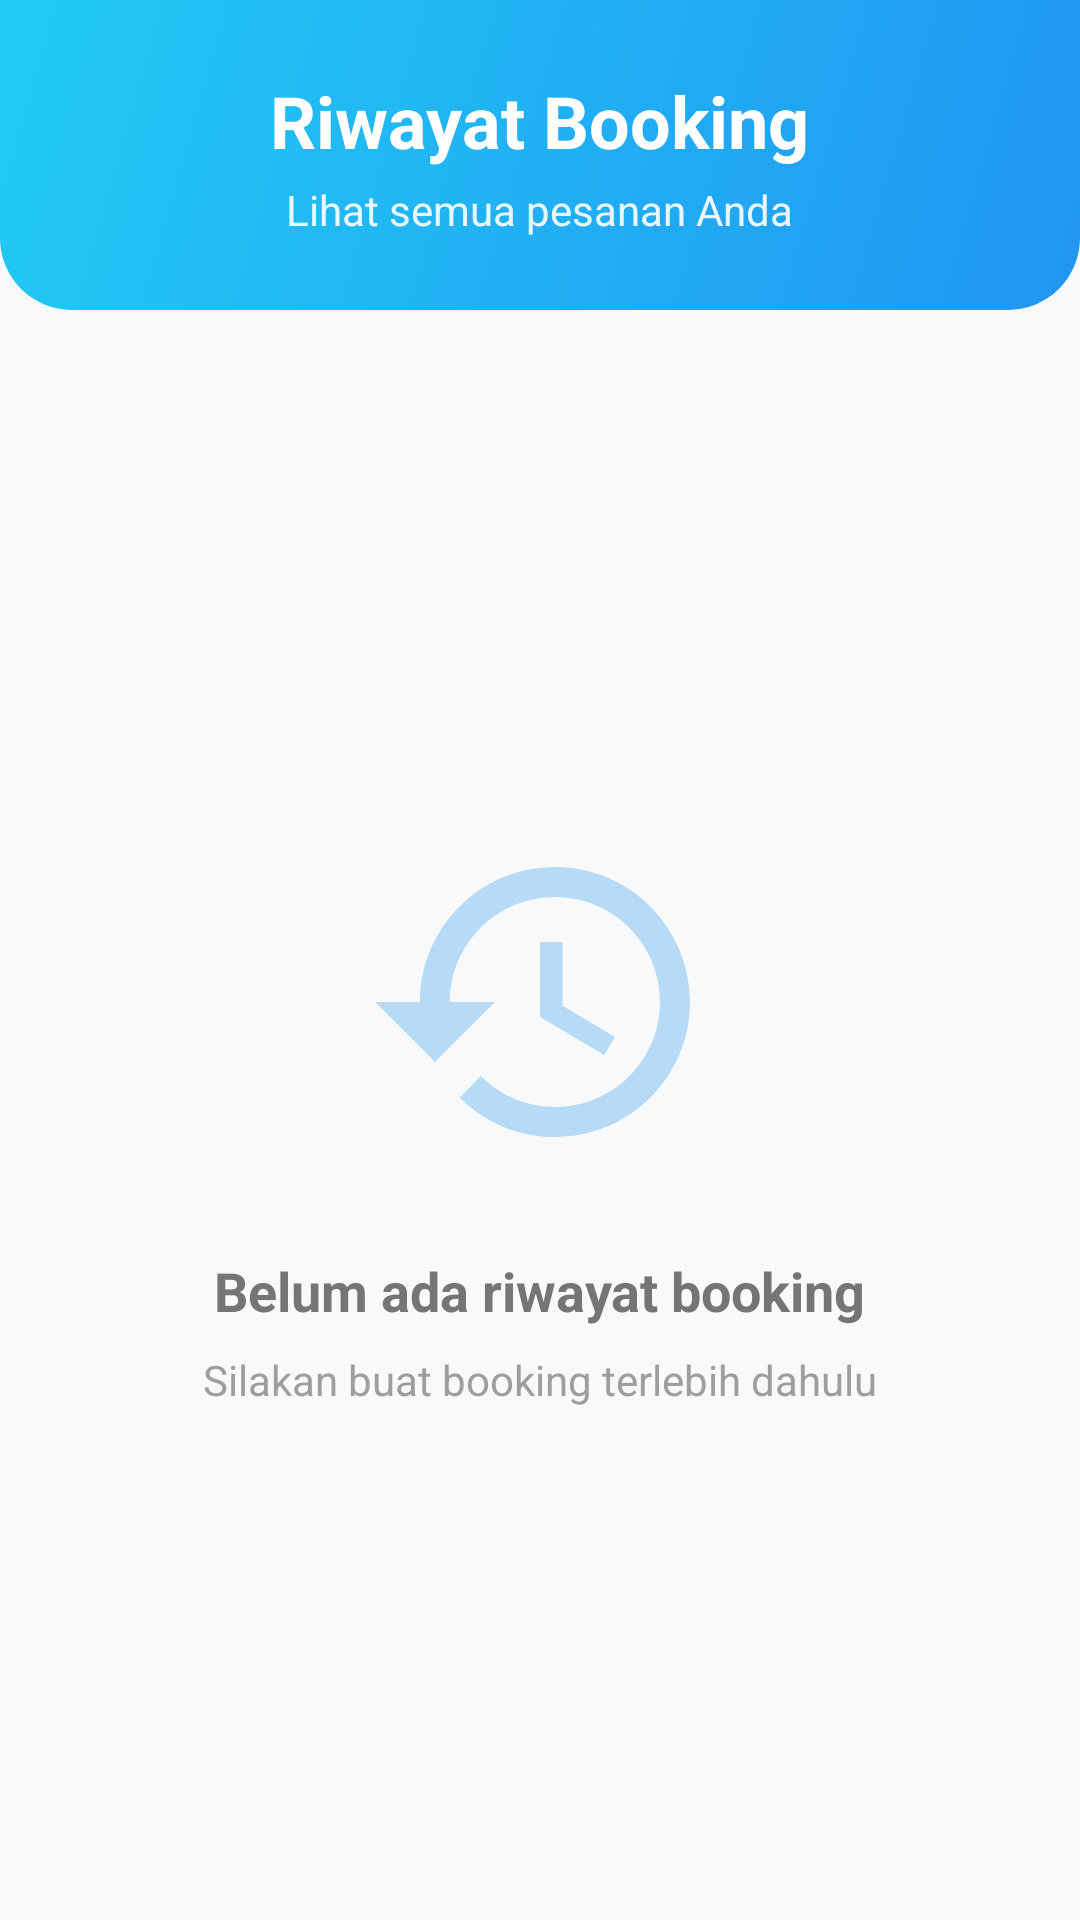

Icons on this 1080 x 1920 Android screen, each with the point to tap as (x,y):
history: (532,1002)
